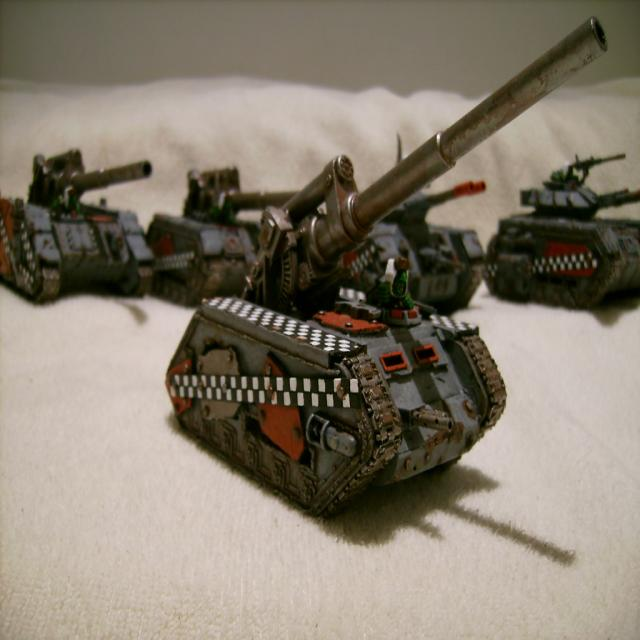tank: (164, 21, 606, 522), (0, 142, 156, 298), (482, 152, 639, 306), (142, 163, 306, 304), (381, 130, 486, 310)
